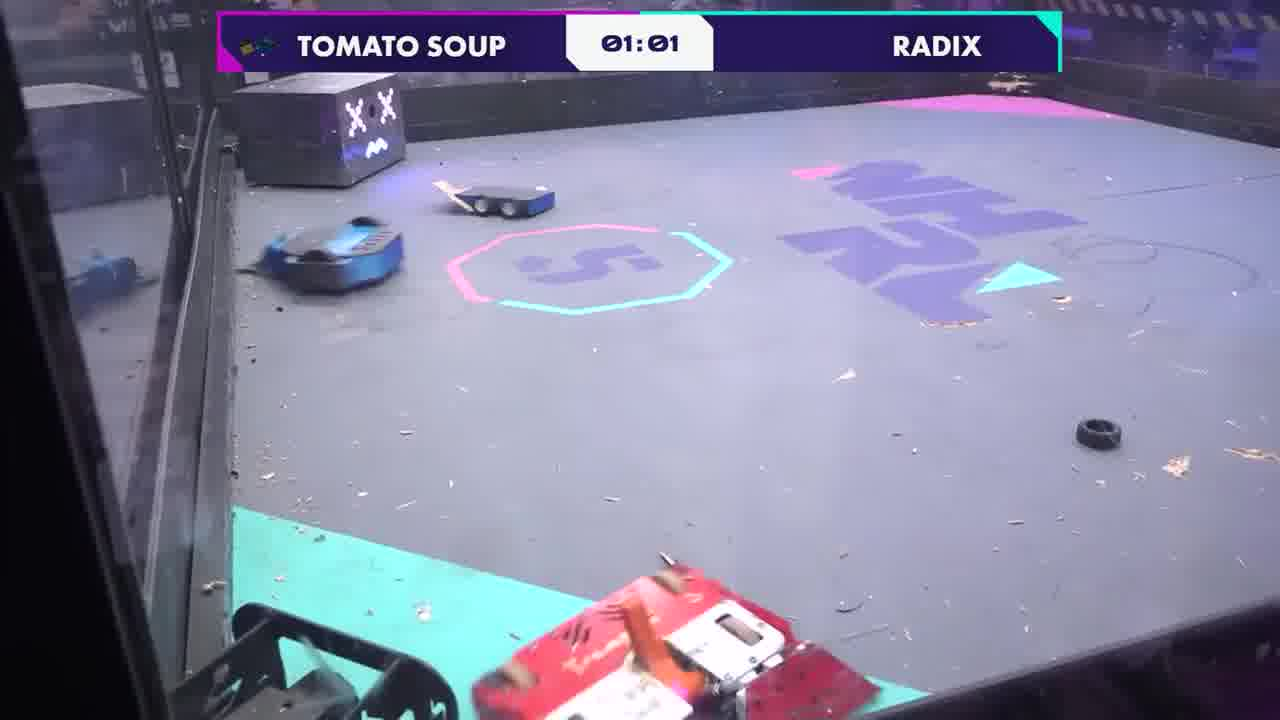combatbot: (471, 555, 880, 720), (236, 215, 407, 294), (438, 180, 558, 223)
housebot: (237, 71, 410, 190), (27, 81, 156, 219)
wheel: (1074, 417, 1125, 450)
